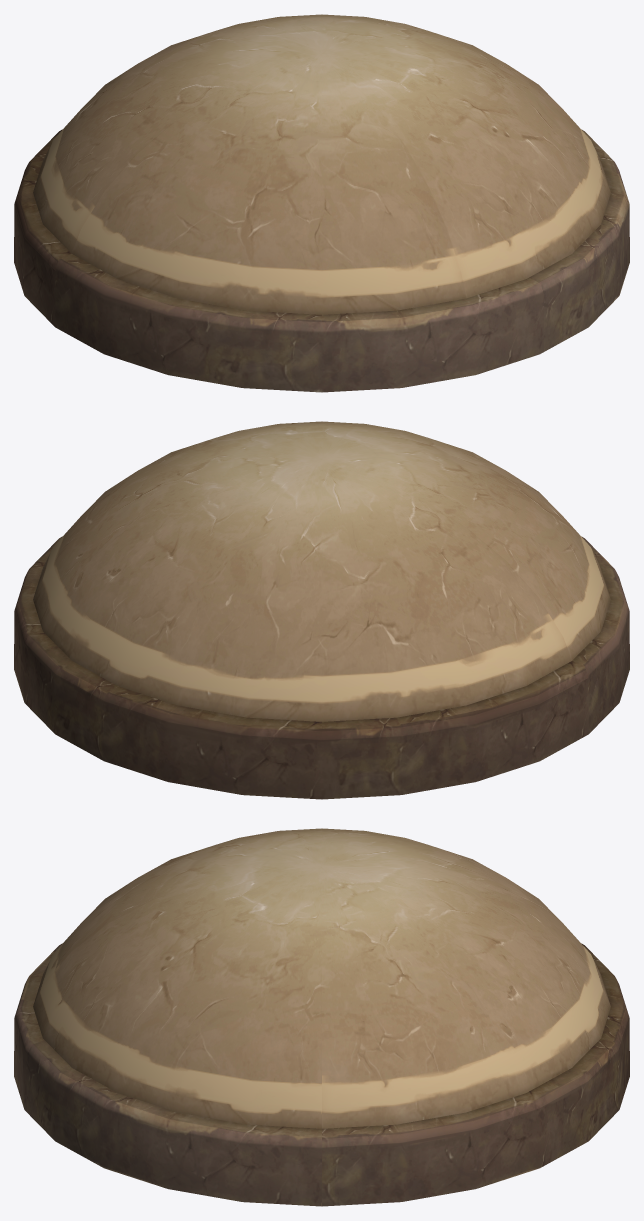
The model's file is DE_House_Mod_Part_10.fbx.
The picture shows the model from 3 angles, top to bottom: view 1: azimuth 30°, elevation 25°; view 2: azimuth 150°, elevation 25°; view 3: azimuth 270°, elevation 25°; orthographic projection.
Visible parts, largest first — view 1: DE_House_Mod_Part_10; view 2: DE_House_Mod_Part_10; view 3: DE_House_Mod_Part_10.
Boxes of the visible parts, x1,y1,x2,y2 form: DE_House_Mod_Part_10: (14, 14, 629, 392); DE_House_Mod_Part_10: (14, 421, 629, 799); DE_House_Mod_Part_10: (14, 828, 629, 1206).
Size of the model in its own units: 6.2 by 2.32 by 6.2.
